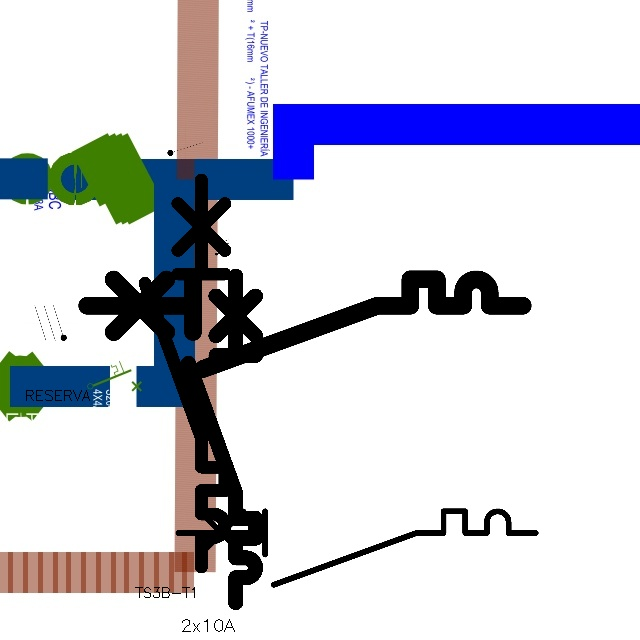interruptor_termomagnetico: (75, 268, 533, 380), (135, 170, 235, 577), (169, 502, 545, 594), (180, 267, 264, 610)
